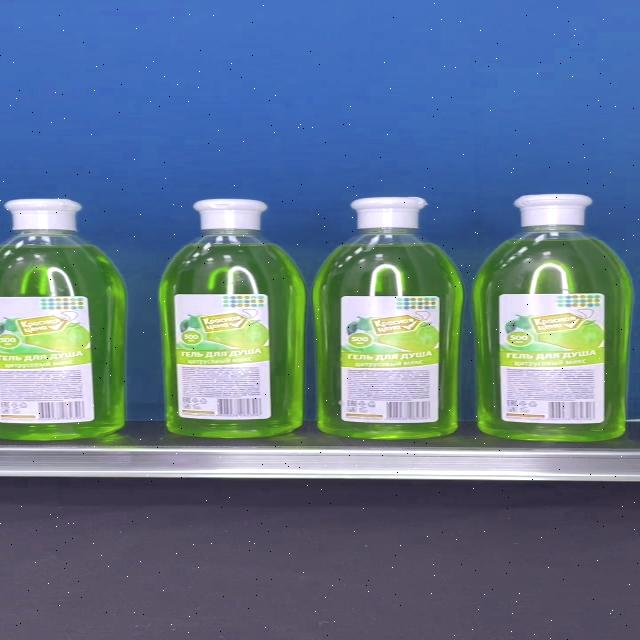Bottle: (471, 194, 632, 442), (314, 195, 462, 440), (158, 197, 305, 438), (0, 197, 126, 441)
Cap: (350, 195, 430, 229), (3, 197, 82, 230), (513, 194, 593, 226), (194, 197, 268, 229)
